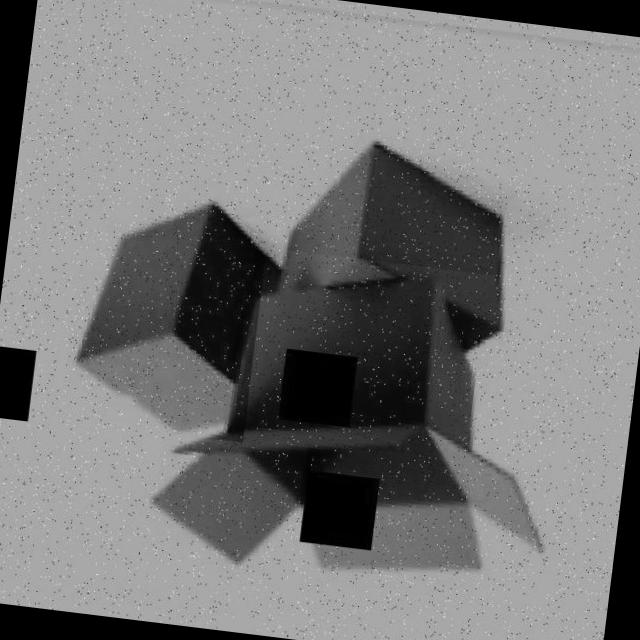box: (136, 236, 576, 617), (262, 115, 527, 348), (51, 167, 273, 442)
